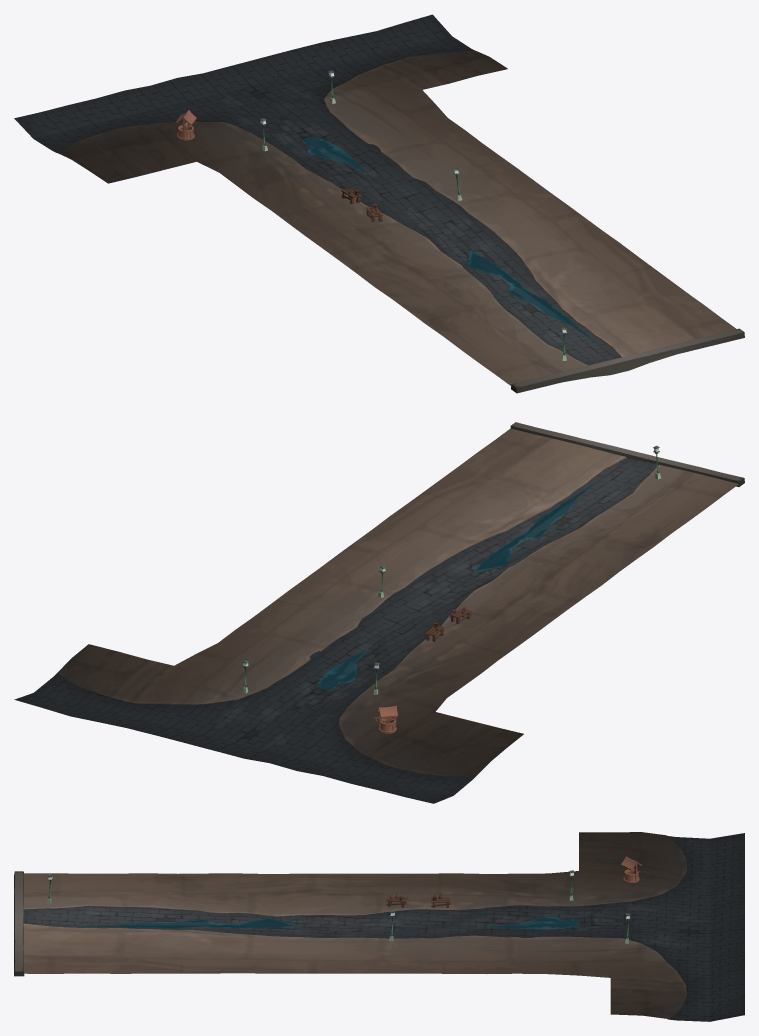
Rendered from Lobby_Street.FBX.
3 views of the same model, one above another, from view 1: azimuth 30°, elevation 25°; view 2: azimuth 150°, elevation 25°; view 3: azimuth 270°, elevation 25° (orthographic). The views are drawn at different scales.
Visible parts, largest first — view 1: Street_Road_Detailed; view 2: Street_Road_Detailed; view 3: Street_Road_Detailed.
Boxes of the visible parts, x1,y1,x2,y2 form: Street_Road_Detailed: (14, 14, 744, 393); Street_Road_Detailed: (14, 422, 744, 803); Street_Road_Detailed: (14, 832, 744, 1021).
Bounding box in the file's own units: 543406 × 912974 × 49048.
Materials: 1 (1 with a texture image).
